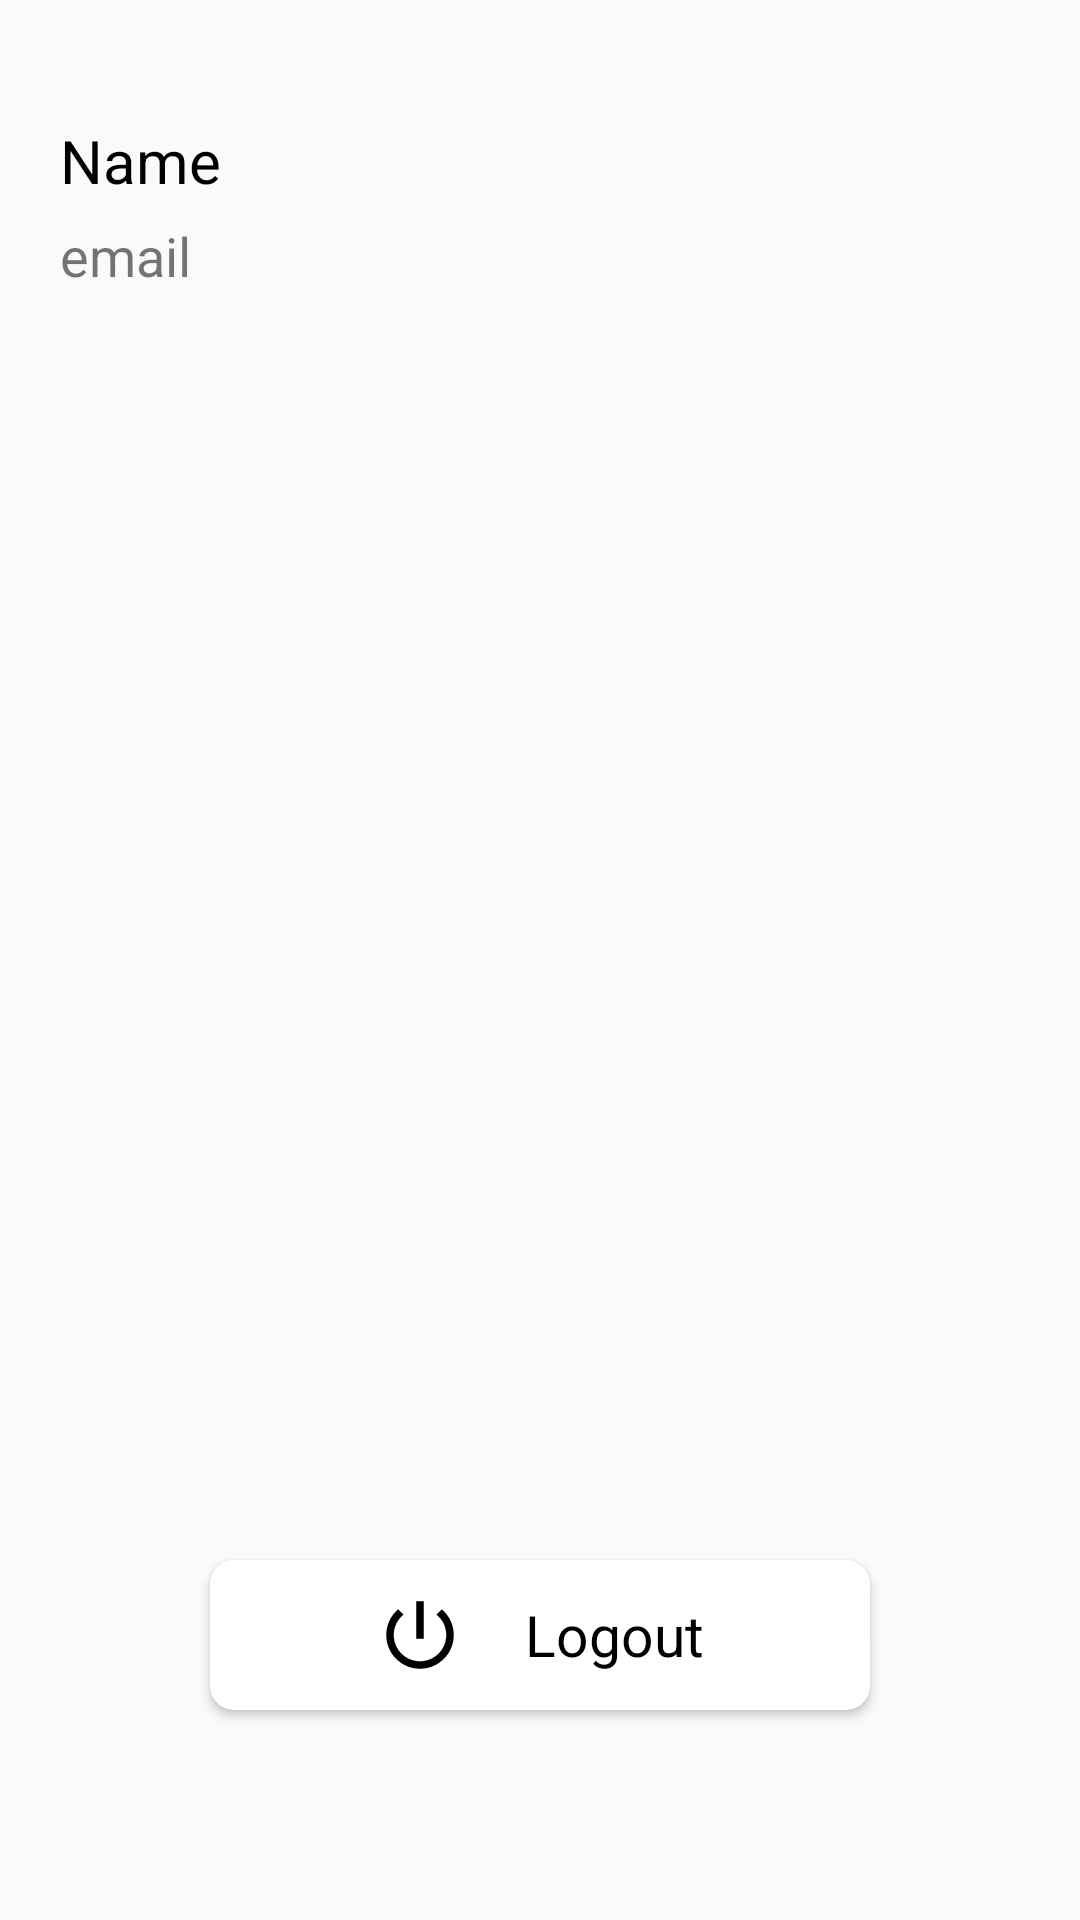

Named icons in this screenshot (1080 x 1920) and their bounding boxes, box=[x1, y1, x2, y2]:
power settings: box=[386, 1601, 454, 1669]
